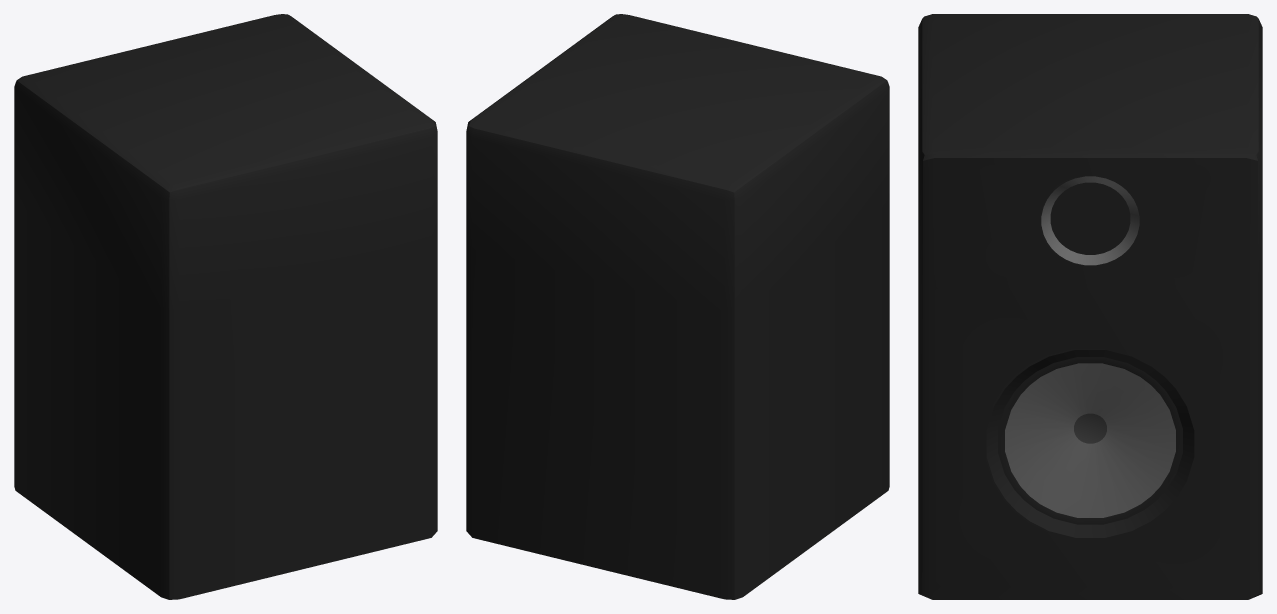
The model's file is speaker.fbx.
The picture shows the model from 3 angles, left to right: view 1: azimuth 30°, elevation 25°; view 2: azimuth 150°, elevation 25°; view 3: azimuth 270°, elevation 25°; orthographic projection. The views are drawn at different scales.
Visible parts, largest first — view 1: Cube.001; view 2: Cube.001; view 3: Cube.001.
Part boxes in pixels (x1=…): Cube.001: x1=14, y1=14, x2=437, y2=599; Cube.001: x1=466, y1=14, x2=889, y2=599; Cube.001: x1=918, y1=14, x2=1262, y2=599.
Size of the model in its own units: 336 by 480 by 336.
1 material, 1 textured.
